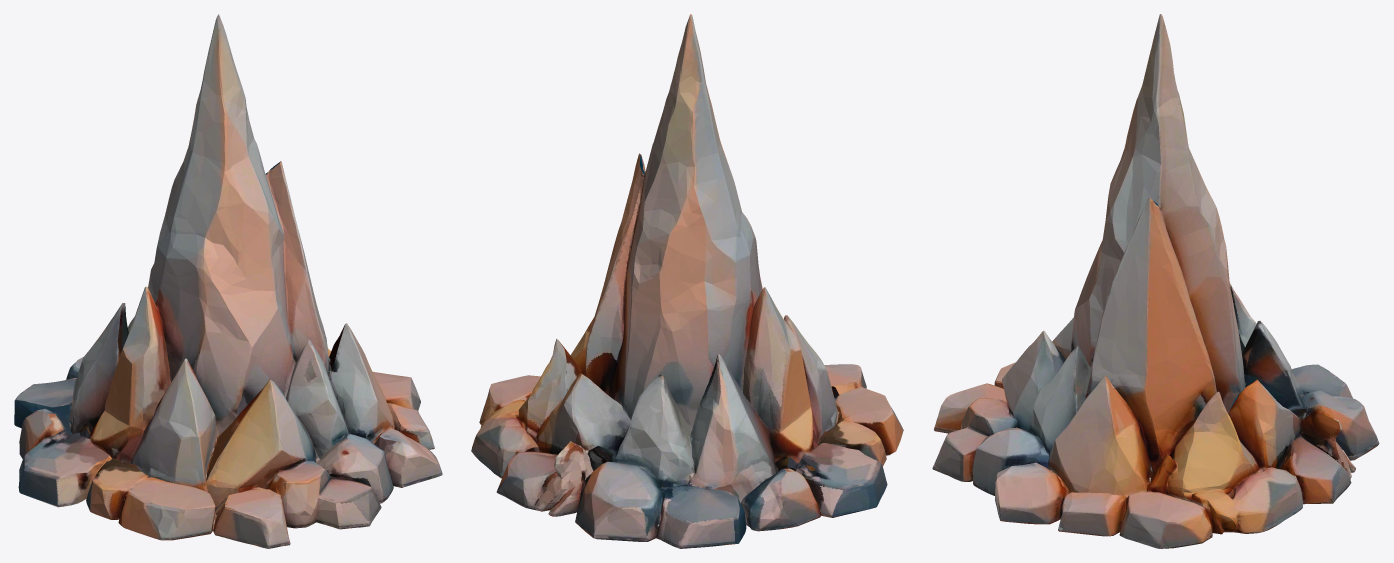
Rendered from rock_spire.glb.
3 views of the same model, side by side, from view 1: azimuth 30°, elevation 25°; view 2: azimuth 150°, elevation 25°; view 3: azimuth 270°, elevation 25° (orthographic).
Bounding box in the file's own units: 1.85 × 1.97 × 1.82.
1 material, 1 textured.
